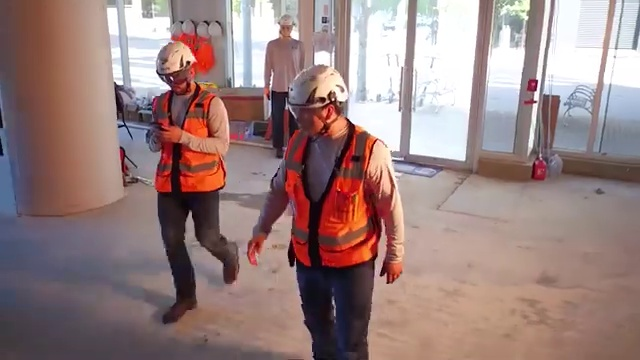helmet: (285, 63, 349, 113), (154, 38, 199, 76)
jacket: (283, 125, 385, 266), (152, 89, 229, 193)
